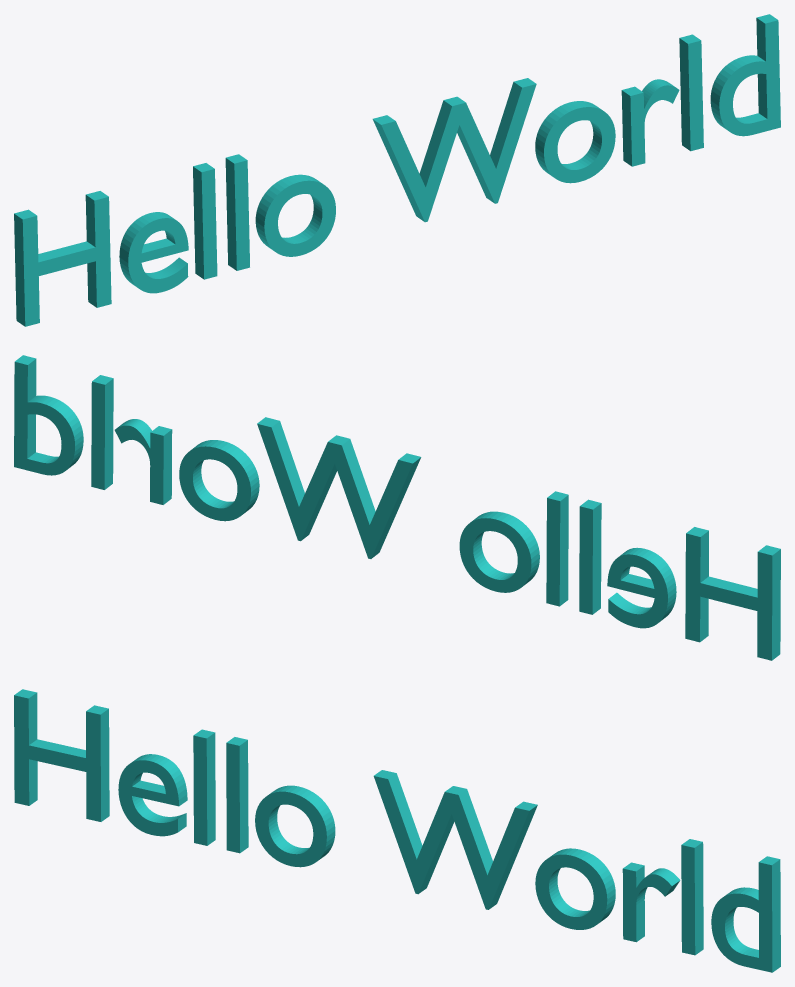
3 renders of one model, top to bottom at view 1: azimuth 30°, elevation 25°; view 2: azimuth 150°, elevation 25°; view 3: azimuth 330°, elevation 25°, orthographic.
Visible parts, largest first — view 1: Text.001; view 2: Text.001; view 3: Text.001.
Boxes of the visible parts, x1,y1,x2,y2 form: Text.001: (14, 14, 780, 326); Text.001: (14, 355, 780, 660); Text.001: (14, 689, 780, 972).
Bounding box in the file's own units: 6.89 × 1.03 × 0.2002.
